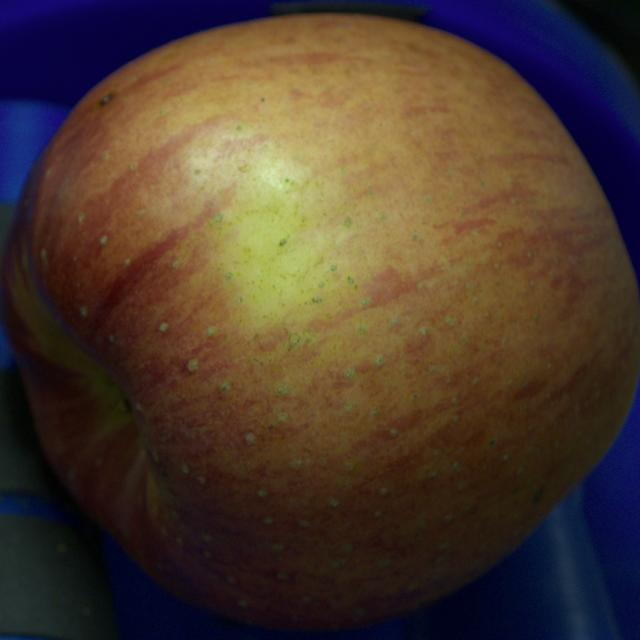apple: (2, 14, 639, 630)
pest: (531, 486, 544, 504), (99, 94, 113, 105)
